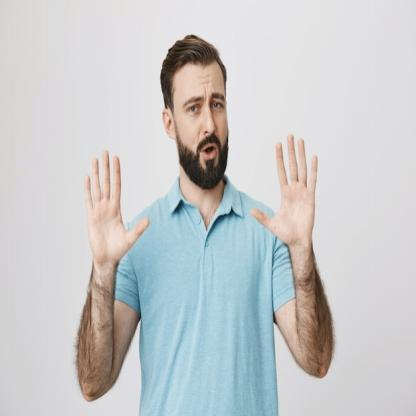stop: (82, 145, 151, 266), (248, 132, 320, 244)
